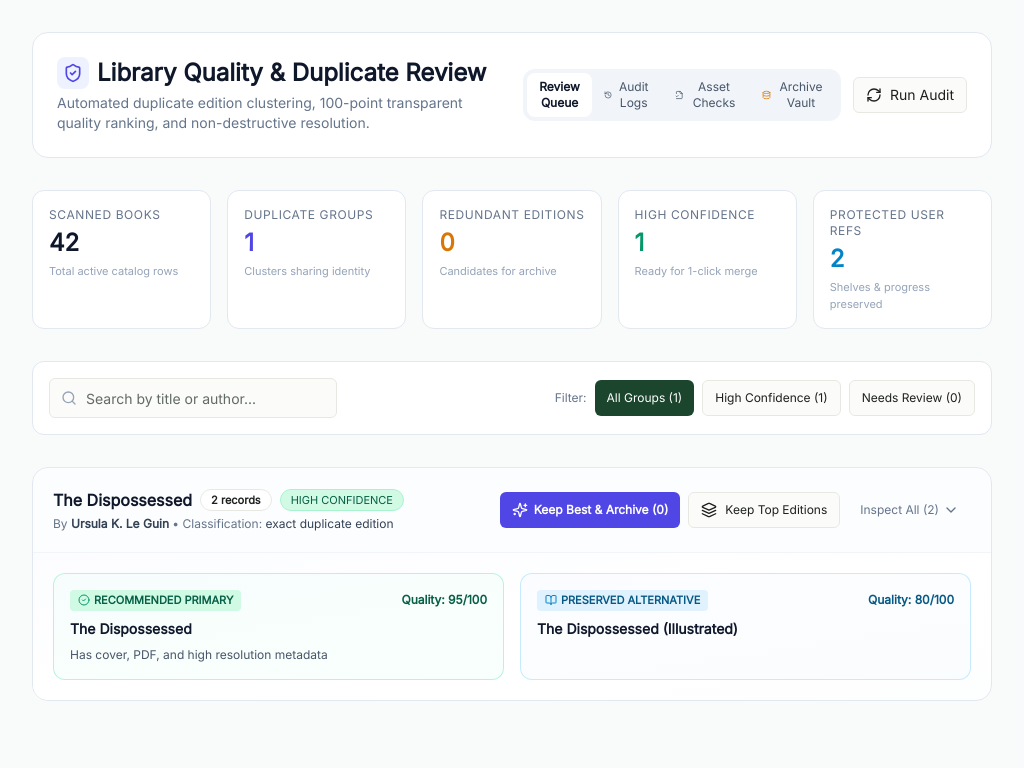
AdminLibraryQuality › opens preview dialog when clicking Keep Best & Archive and approves resolution
Later steps or results of the test are not shown.
Click the button "Keep Best & Archive (0)": (590, 510) [500,492,680,528]
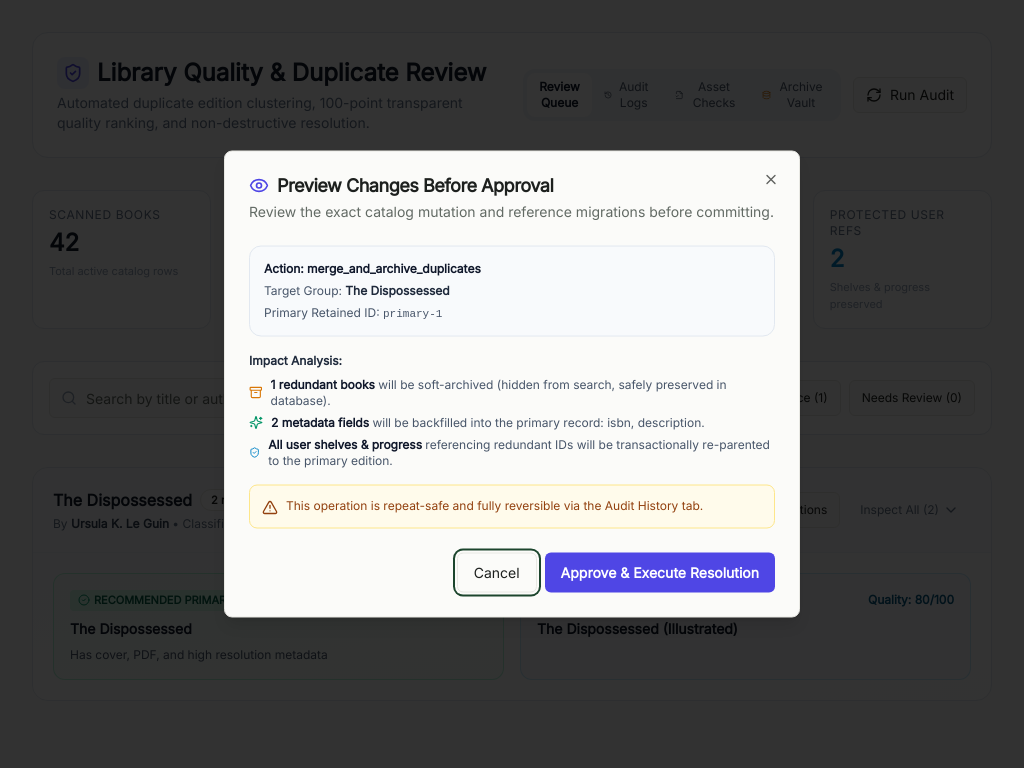
Expected: the heading "Preview Changes Before Approval" is shown, [249,174,553,196]
Expected: the button "Approve & Execute Resolution" is shown, [545,552,775,592]
